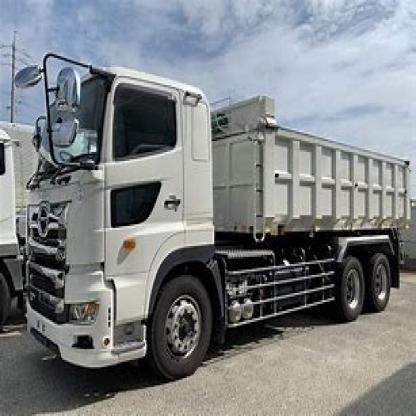dump_truck: (19, 44, 412, 372)
